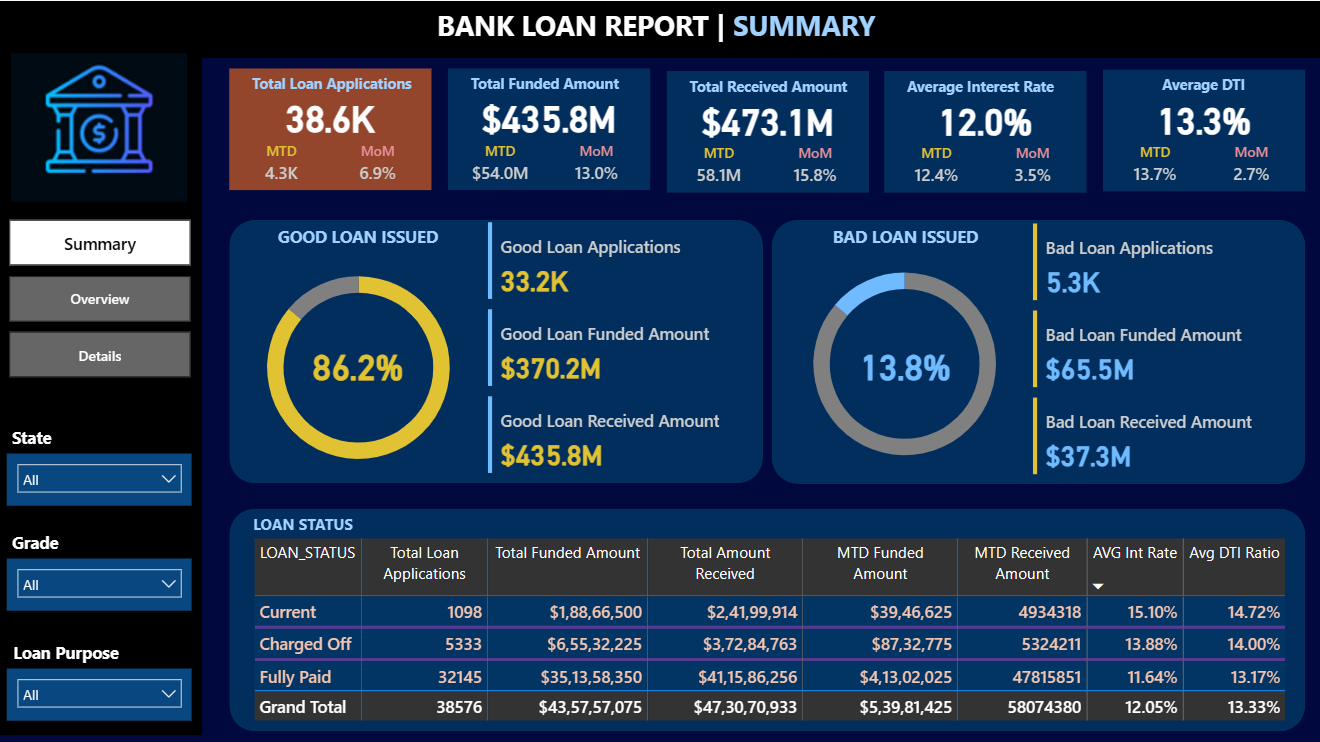

Layout of this report page (visuals, bound fields, positions):
{"tool":"powerbi","page":{"name":"Summary","canvas":[1280,720],"ordinal":0},"visuals":[{"type":"shape","box":[0,0,1280.3,55],"z":0},{"type":"shape","box":[223.1,64.9,195.2,117.4],"z":0,"group":"g1"},{"type":"shape","box":[434.3,64.9,195.2,117.4],"z":0,"group":"g2"},{"type":"shape","box":[1066.7,66.2,195.2,117.4],"z":0,"group":"g5"},{"type":"shape","box":[645.5,67.6,195.2,117.4],"z":0,"group":"g3"},{"type":"shape","box":[855.4,67.6,195.2,117.4],"z":0,"group":"g4"},{"type":"card","fields":{"Values":["financial_loan.Total Loan Applications"]},"box":[223.1,79.9,195.2,64.2],"z":1000,"group":"g1"},{"type":"card","fields":{"Values":["financial_loan.Total Funded Amount"]},"box":[434.3,79.9,195.2,64.2],"z":1000,"group":"g2"},{"type":"card","fields":{"Values":["financial_loan.Avg DTI Ratio"]},"box":[1066.7,81.2,195.2,64.2],"z":1000,"group":"g5"},{"type":"card","fields":{"Values":["financial_loan.Total Amount Received"]},"box":[645.5,82.6,195.2,64.2],"z":1000,"group":"g3"},{"type":"card","fields":{"Values":["financial_loan.AVG Int Rate"]},"box":[855.4,82.6,195.2,64.2],"z":1000,"group":"g4"},{"type":"shape","box":[223.2,211.1,515.2,254.6],"z":1000},{"type":"shape","box":[746.8,211.1,515,255],"z":1000,"group":"g6"},{"type":"shape","box":[1.4,44.3,195.7,664.3],"z":2000},{"type":"textbox","box":[239.5,64.9,203.4,30],"z":2000,"group":"g1"},{"type":"textbox","box":[450.7,64.9,203.4,30],"z":2000,"group":"g2"},{"type":"textbox","box":[1118.1,66.3,148.6,39.3],"z":2000,"group":"g5"},{"type":"textbox","box":[661.9,67.6,203.4,30],"z":2000,"group":"g3"},{"type":"textbox","box":[871.8,67.6,203.4,30],"z":2000,"group":"g4"},{"type":"card","title":"MTD","fields":{"Values":["financial_loan.MTD Loan Applications"]},"box":[239.5,134.5,66.9,47.8],"z":3000,"group":"g1"},{"type":"card","title":"MTD","fields":{"Values":["financial_loan.MTD Funded Amount"]},"box":[450.7,134.5,66.9,47.8],"z":3000,"group":"g2"},{"type":"card","title":"MTD","fields":{"Values":["financial_loan.MTD Avg DTI"]},"box":[1083.1,135.8,66.9,47.8],"z":3000,"group":"g5"},{"type":"card","title":"MTD","fields":{"Values":["financial_loan.MTD Received Amount"]},"box":[661.9,137.2,66.9,47.8],"z":3000,"group":"g3"},{"type":"card","title":"MTD","fields":{"Values":["financial_loan.MTD Avg Int Rate"]},"box":[871.8,137.2,66.9,47.8],"z":3000,"group":"g4"},{"type":"donutChart","fields":{"Category":["financial_loan.Good vs Bad Loan"],"Y":["financial_loan.Total Loan Applications"]},"box":[222.7,239.2,249.7,230.4],"z":3000},{"type":"card","title":"MoM","fields":{"Values":["financial_loan.MoM Loan Applications"]},"box":[332.3,134.5,66.9,47.8],"z":4000,"group":"g1"},{"type":"card","title":"MoM","fields":{"Values":["financial_loan.MoM Total Funded Amount"]},"box":[543.5,134.5,66.9,47.8],"z":4000,"group":"g2"},{"type":"card","title":"MoM","fields":{"Values":["financial_loan.MoM Avg DTI"]},"box":[1175.9,135.8,66.9,47.8],"z":4000,"group":"g5"},{"type":"card","title":"MoM","fields":{"Values":["financial_loan.MoM Total Received Amount"]},"box":[754.7,137.2,66.9,47.8],"z":4000,"group":"g3"},{"type":"card","title":"MoM","fields":{"Values":["financial_loan.MoM Avg Int Rate"]},"box":[964.6,137.2,66.9,47.8],"z":4000,"group":"g4"},{"type":"textbox","box":[243.7,211.1,207.5,48.3],"z":4000},{"type":"card","fields":{"Values":["financial_loan.Good Loan %"]},"box":[249.7,318.5,195.4,65.1],"z":5000},{"type":"textbox","box":[418.2,0,443.8,55.1],"z":6000},{"type":"cardVisual","fields":{"Data":["financial_loan.Good Loan Applications","financial_loan.Good Loan Funded Amount","financial_loan.Good Loan Received Amount"]},"box":[468.1,208.7,254.6,254.6],"z":7000},{"type":"group","id":"g1","title":"Group 1","box":[223.1,64.9,220.4,117.6],"z":8000},{"type":"group","id":"g2","title":"Group 1","box":[434.3,64.9,220.4,116.3],"z":9000},{"type":"group","id":"g3","title":"Group 1","box":[645.5,67.6,219,117.6],"z":10000},{"type":"group","id":"g4","title":"Group 1","box":[855.4,67.6,220.4,117.6],"z":11000},{"type":"donutChart","fields":{"Category":["financial_loan.Good vs Bad Loan"],"Y":["financial_loan.Total Loan Applications"]},"box":[750.4,235.2,249.7,230.4],"z":11000,"group":"g6"},{"type":"group","id":"g5","title":"Group 1","box":[1066.7,66.2,200.1,117.6],"z":12000},{"type":"group","id":"g6","title":"Group 2","box":[746.8,209.9,515,256.2],"z":13000},{"type":"cardVisual","fields":{"Data":["financial_loan.Bad Loan Applications","financial_loan.Bad Loan Funded Amount","financial_loan.Bad Loan Received Amount"]},"box":[994.1,209.9,254.6,254.6],"z":13000,"group":"g6"},{"type":"textbox","box":[772.1,211.1,207.5,48.3],"z":14000},{"type":"card","fields":{"Values":["financial_loan.Bad Loan %"]},"box":[778.2,318.5,195.4,65.1],"z":15000},{"type":"shape","box":[222.8,489.7,1038.6,215.3],"z":16000},{"type":"tableEx","fields":{"Values":["financial_loan.loan_status","financial_loan.Total Loan Applications","financial_loan.Total Funded Amount","financial_loan.Total Amount Received","financial_loan.MTD Funded Amount","financial_loan.MTD Received Amount","financial_loan.AVG Int Rate","financial_loan.Avg DTI Ratio"]},"box":[241.7,513.6,1010.9,193.9],"z":17000},{"type":"textbox","box":[241.7,489.7,185.1,47.8],"z":18000},{"type":"slicer","fields":{"Values":["financial_loan.address_state"]},"box":[8.8,436.9,178.8,50.4],"z":19000},{"type":"slicer","fields":{"Values":["financial_loan.grade"]},"box":[8.8,537.6,178.8,50.4],"z":20000},{"type":"slicer","fields":{"Values":["financial_loan.purpose"]},"box":[8.8,644.6,178.8,50.4],"z":21000},{"type":"textbox","box":[8.8,405.4,122.1,31.5],"z":22000},{"type":"textbox","box":[8.8,506.1,122.1,31.5],"z":23000},{"type":"textbox","box":[10.1,613.1,122.1,31.5],"z":24000},{"type":"pageNavigator","box":[11.4,211.4,175.7,152.9],"z":25000},{"type":"image","box":[0,45.7,195.7,152.9],"z":26000}]}

Visuals, with their boxes in screenshot pixels (x1, y1, x2, y2), scaled from the page's 1280x720 canvas onto the 1320x742 screenshot:
shape: (0, 0, 1319, 57)
shape: (230, 67, 431, 188)
shape: (448, 67, 649, 188)
shape: (1100, 68, 1301, 189)
shape: (666, 70, 867, 191)
shape: (882, 70, 1083, 191)
card - financial_loan.Total Loan Applications: (230, 82, 431, 149)
card - financial_loan.Total Funded Amount: (448, 82, 649, 149)
card - financial_loan.Avg DTI Ratio: (1100, 84, 1301, 150)
card - financial_loan.Total Amount Received: (666, 85, 867, 151)
card - financial_loan.AVG Int Rate: (882, 85, 1083, 151)
shape: (230, 218, 761, 480)
shape: (770, 218, 1301, 480)
shape: (1, 46, 203, 730)
textbox: (247, 67, 457, 98)
textbox: (465, 67, 675, 98)
textbox: (1153, 68, 1306, 109)
textbox: (683, 70, 892, 101)
textbox: (899, 70, 1109, 101)
"MTD" card: (247, 139, 316, 188)
"MTD" card: (465, 139, 534, 188)
"MTD" card: (1117, 140, 1186, 189)
"MTD" card: (683, 141, 752, 191)
"MTD" card: (899, 141, 968, 191)
donutChart - financial_loan.Good vs Bad Loan x financial_loan.Total Loan Applications: (230, 247, 487, 484)
"MoM" card: (343, 139, 412, 188)
"MoM" card: (560, 139, 629, 188)
"MoM" card: (1213, 140, 1282, 189)
"MoM" card: (778, 141, 847, 191)
"MoM" card: (995, 141, 1064, 191)
textbox: (251, 218, 465, 267)
card - financial_loan.Good Loan %: (258, 328, 459, 395)
textbox: (431, 0, 889, 57)
cardVisual - financial_loan.Good Loan Applications x financial_loan.Good Loan Funded Amount: (483, 215, 745, 477)
"Group 1" group: (230, 67, 457, 188)
"Group 1" group: (448, 67, 675, 187)
"Group 1" group: (666, 70, 892, 191)
"Group 1" group: (882, 70, 1109, 191)
donutChart - financial_loan.Good vs Bad Loan x financial_loan.Total Loan Applications: (774, 242, 1031, 480)
"Group 1" group: (1100, 68, 1306, 189)
"Group 2" group: (770, 216, 1301, 480)
cardVisual - financial_loan.Bad Loan Applications x financial_loan.Bad Loan Funded Amount: (1025, 216, 1288, 479)
textbox: (796, 218, 1010, 267)
card - financial_loan.Bad Loan %: (803, 328, 1004, 395)
shape: (230, 505, 1301, 727)
tableEx - financial_loan.loan_status x financial_loan.Total Loan Applications: (249, 529, 1292, 729)
textbox: (249, 505, 440, 554)
slicer - financial_loan.address_state: (9, 450, 193, 502)
slicer - financial_loan.grade: (9, 554, 193, 606)
slicer - financial_loan.purpose: (9, 664, 193, 716)
textbox: (9, 418, 135, 450)
textbox: (9, 522, 135, 554)
textbox: (10, 632, 136, 664)
pageNavigator: (12, 218, 193, 375)
image: (0, 47, 202, 205)
